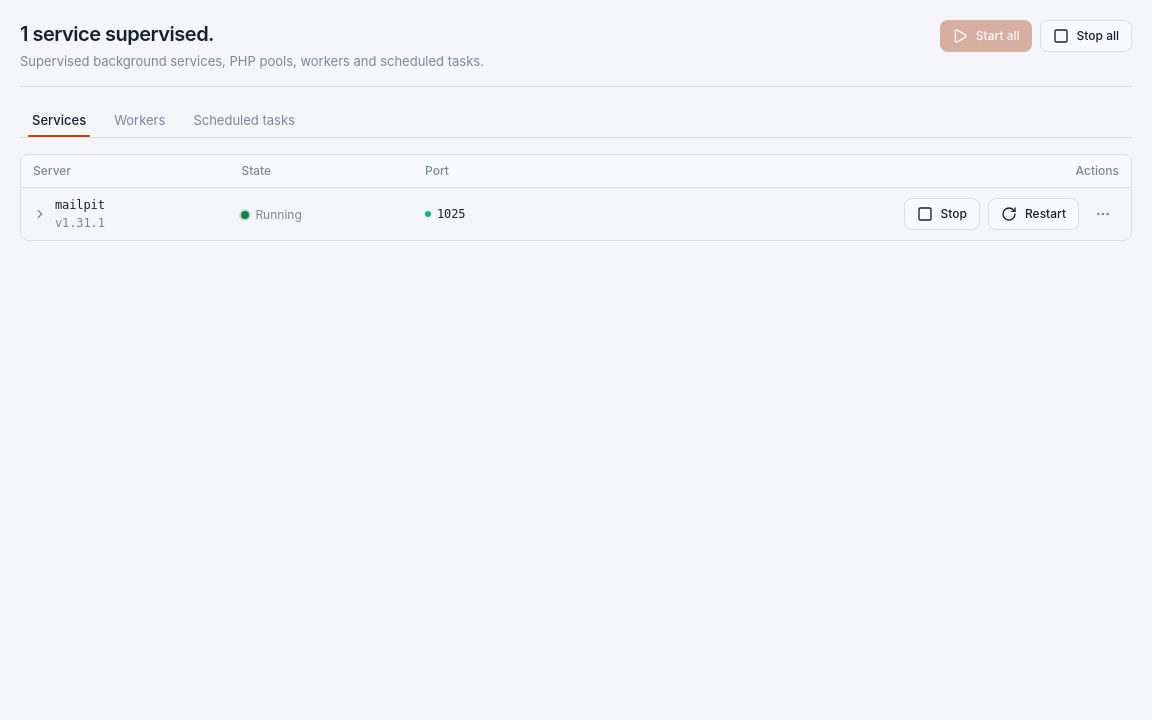
Test: ServicesPage › restarts a running service by stopping it and starting it again
Expected: the text "mailpit" is shown, [55,196,105,214]
Click the button "Restart" at (1034, 214), box [988,198,1079,230]
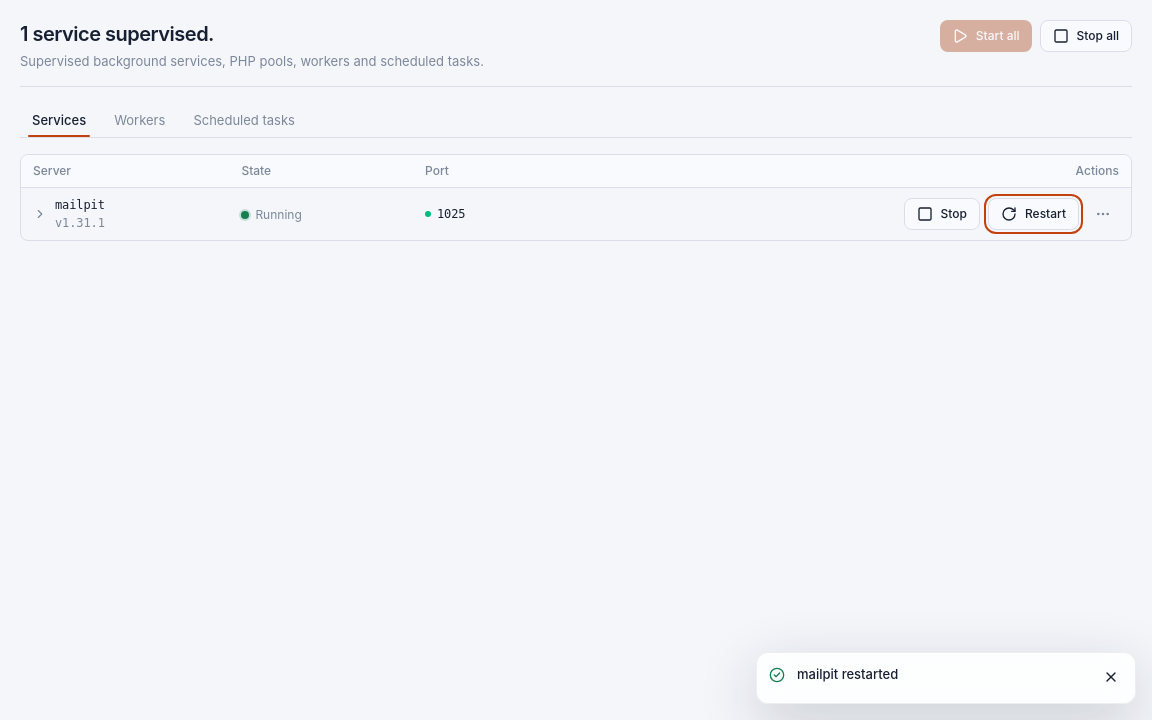
Expected: the text "mailpit restarted" is shown, [797,666,898,682]
